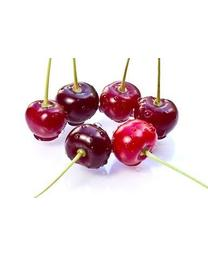cherry: (111, 120, 158, 168), (64, 123, 111, 170), (134, 96, 179, 140), (98, 81, 141, 123), (55, 81, 98, 123), (25, 99, 64, 138)
